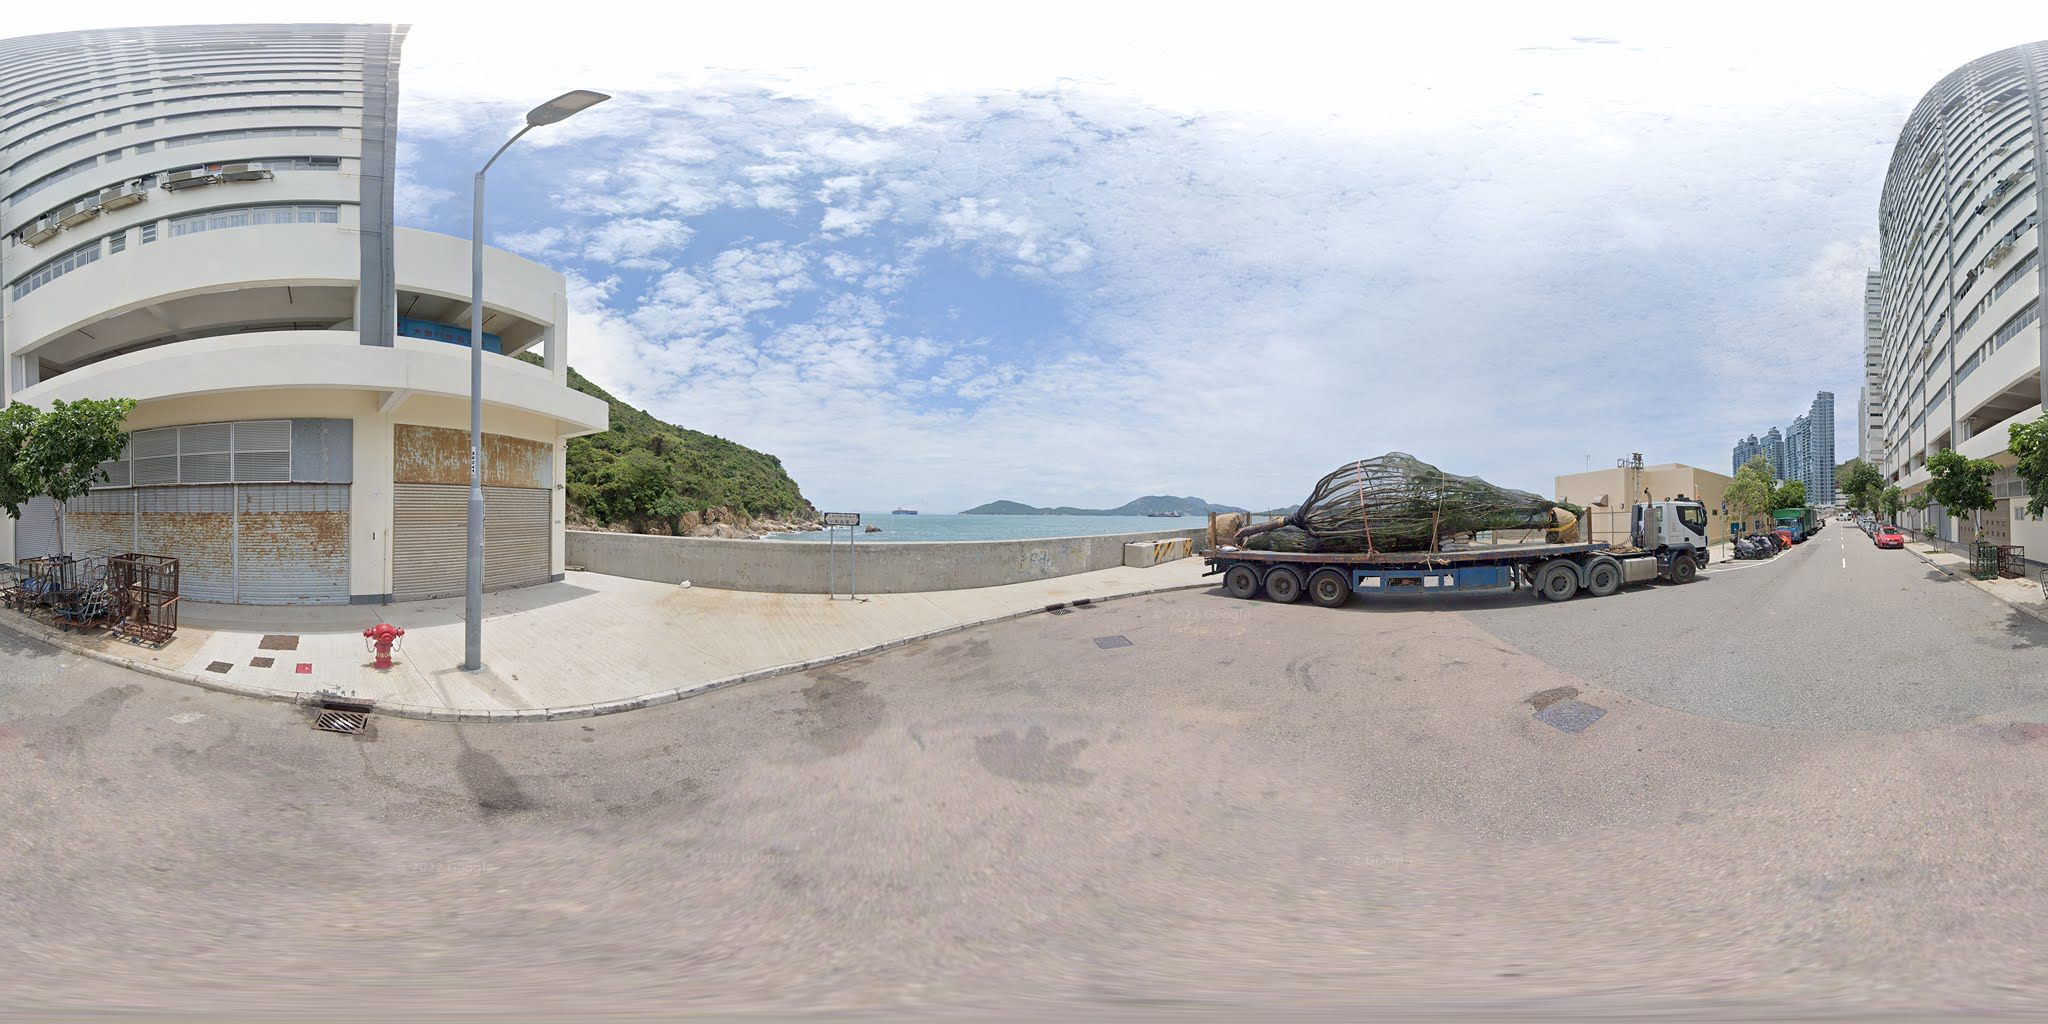SL: (465, 81, 620, 185)
